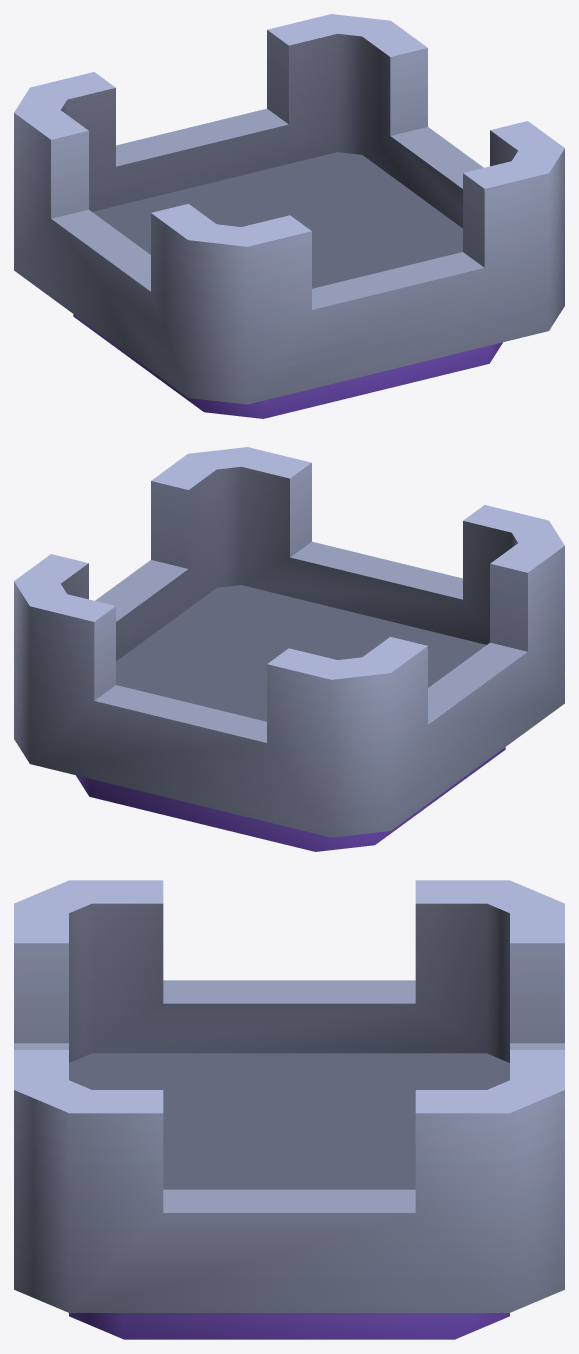
The model's file is tower-square-middle-c.glb.
3 renders of one model, top to bottom at view 1: azimuth 30°, elevation 25°; view 2: azimuth 150°, elevation 25°; view 3: azimuth 270°, elevation 25°, orthographic. The views are drawn at different scales.
Parts seen in each view (by area): view 1: tower-square-middle-c; view 2: tower-square-middle-c; view 3: tower-square-middle-c.
Part boxes in pixels (x1=…): tower-square-middle-c: x1=14, y1=14, x2=564, y2=418; tower-square-middle-c: x1=14, y1=447, x2=564, y2=851; tower-square-middle-c: x1=14, y1=880, x2=564, y2=1339.
Bounding box in the file's own units: 1 × 0.5001 × 1.
1 material, 1 textured.
